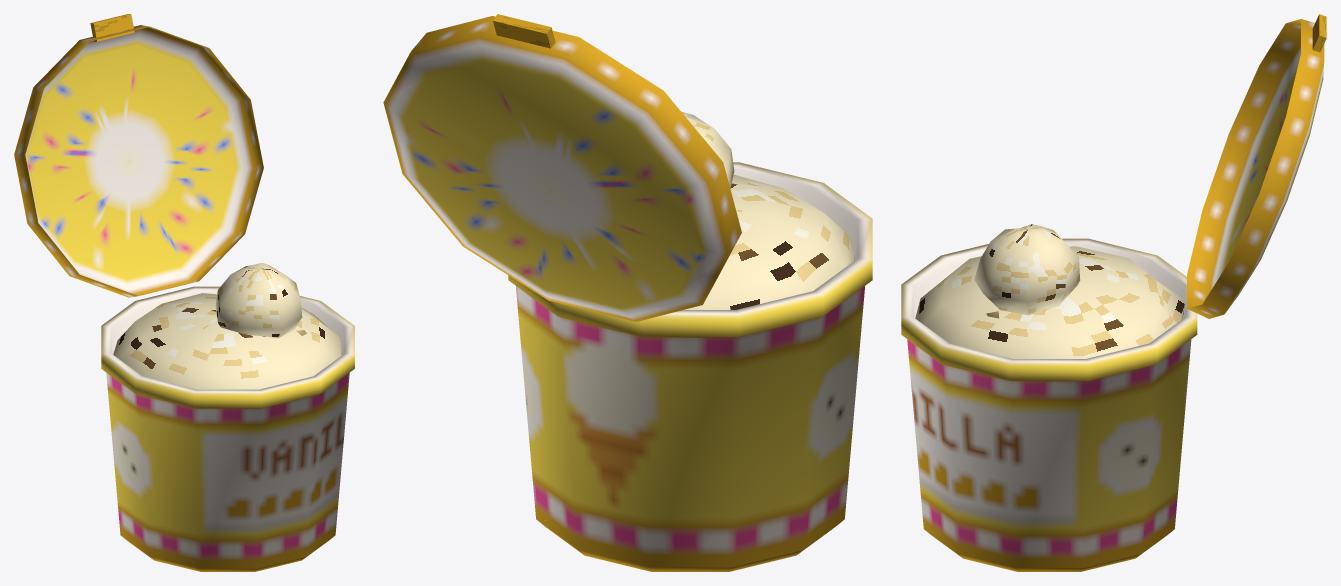
The model's file is Flavor Tub Vanilla.fbx.
3 views of the same model, side by side, from view 1: azimuth 30°, elevation 25°; view 2: azimuth 150°, elevation 25°; view 3: azimuth 270°, elevation 25° (orthographic). The views are drawn at different scales.
Visible parts, largest first — view 1: Flavor Tub Vanilla lid, Flavor Tub Vanilla tub, Flavor Tub Vanilla ice cream, Flavor Tub Vanilla swirl, Flavor Tub Vanilla lid tab; view 2: Flavor Tub Vanilla tub, Flavor Tub Vanilla lid, Flavor Tub Vanilla ice cream, Flavor Tub Vanilla lid tab, Flavor Tub Vanilla swirl; view 3: Flavor Tub Vanilla tub, Flavor Tub Vanilla lid, Flavor Tub Vanilla ice cream, Flavor Tub Vanilla swirl.
Part boxes in pixels (x1=…): Flavor Tub Vanilla lid: x1=14, y1=25, x2=263, y2=297; Flavor Tub Vanilla tub: x1=101, y1=286, x2=354, y2=571; Flavor Tub Vanilla ice cream: x1=113, y1=293, x2=342, y2=389; Flavor Tub Vanilla swirl: x1=215, y1=262, x2=306, y2=338; Flavor Tub Vanilla lid tab: x1=90, y1=14, x2=134, y2=41; Flavor Tub Vanilla tub: x1=508, y1=162, x2=872, y2=571; Flavor Tub Vanilla lid: x1=383, y1=16, x2=741, y2=321; Flavor Tub Vanilla ice cream: x1=684, y1=174, x2=855, y2=309; Flavor Tub Vanilla lid tab: x1=493, y1=14, x2=555, y2=48; Flavor Tub Vanilla swirl: x1=681, y1=111, x2=734, y2=188; Flavor Tub Vanilla tub: x1=901, y1=238, x2=1197, y2=571; Flavor Tub Vanilla lid: x1=1187, y1=19, x2=1324, y2=318; Flavor Tub Vanilla ice cream: x1=915, y1=246, x2=1184, y2=358; Flavor Tub Vanilla swirl: x1=974, y1=224, x2=1080, y2=318.
Bounding box in the file's own units: 0.3033 × 0.5406 × 0.4191.
4 materials, 4 textured.
